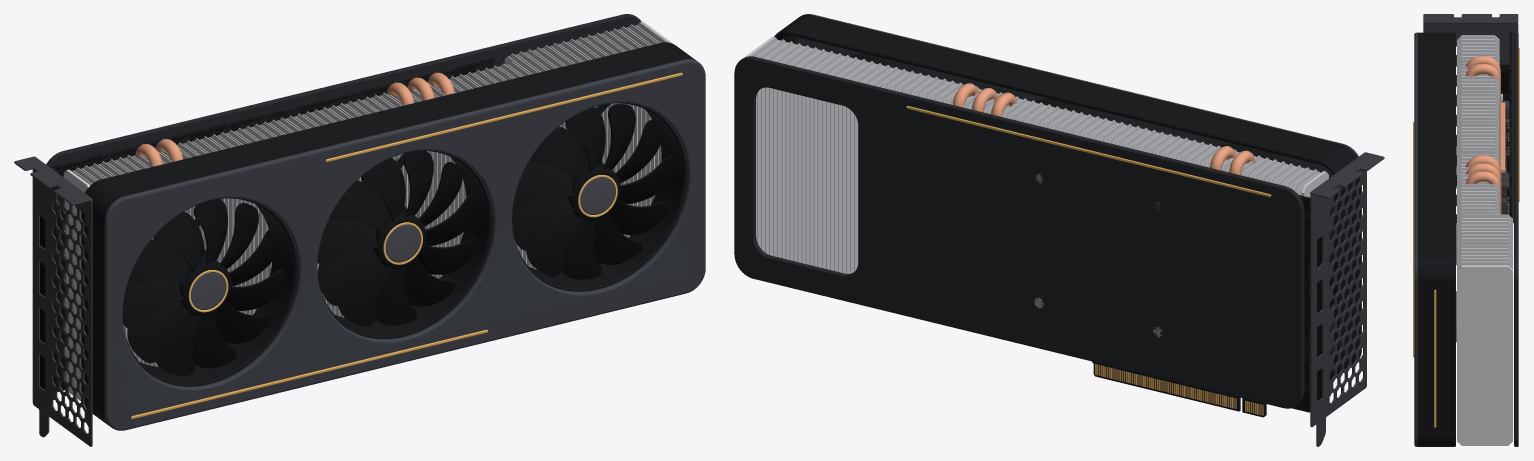
File: gpu.glb
3 renders of one model, left to right at view 1: azimuth 30°, elevation 25°; view 2: azimuth 150°, elevation 25°; view 3: azimuth 270°, elevation 25°, orthographic. The views are drawn at different scales.
Visible parts, largest first — view 1: shroud, fan_1, fan_2, fan_0, heatsink_fins, io_bracket, fan_frame, backplate, pcb, heatpipes, accent_top, accent_bottom; view 2: backplate, heatsink_fins, shroud, io_bracket, pcb, heatpipes, pcie_fingers, fan_frame, accent_back; view 3: heatsink_fins, shroud, io_bracket, heatpipes, backplate, pcb, vrm, accent_end, accent_back, accent_top, capacitors, accent_bottom (+1 smaller).
Part boxes in pixels (bbox=[...]): shroud: bbox=[81, 42, 705, 430]; fan_1: bbox=[317, 151, 478, 326]; fan_2: bbox=[512, 104, 674, 279]; fan_0: bbox=[122, 199, 285, 375]; heatsink_fins: bbox=[63, 21, 671, 400]; io_bracket: bbox=[14, 156, 92, 446]; fan_frame: bbox=[124, 103, 686, 386]; backplate: bbox=[46, 14, 641, 166]; pcb: bbox=[50, 58, 494, 391]; heatpipes: bbox=[135, 72, 454, 167]; accent_top: bbox=[325, 72, 682, 162]; accent_bottom: bbox=[131, 329, 488, 419]; backplate: bbox=[734, 56, 1304, 408]; heatsink_fins: bbox=[745, 36, 1328, 273]; shroud: bbox=[774, 14, 1361, 379]; io_bracket: bbox=[1310, 152, 1384, 446]; pcb: bbox=[1092, 195, 1310, 417]; heatpipes: bbox=[952, 83, 1255, 175]; pcie_fingers: bbox=[1095, 364, 1263, 415]; fan_frame: bbox=[850, 53, 1334, 306]; accent_back: bbox=[906, 106, 1271, 196]; heatsink_fins: bbox=[1457, 35, 1512, 445]; shroud: bbox=[1414, 32, 1455, 446]; io_bracket: bbox=[1423, 14, 1518, 222]; heatpipes: bbox=[1465, 55, 1505, 214]; backplate: bbox=[1514, 32, 1518, 446]; pcb: bbox=[1509, 32, 1512, 217]; vrm: bbox=[1501, 95, 1509, 214]; accent_end: bbox=[1434, 289, 1436, 427]; accent_back: bbox=[1518, 48, 1519, 201]; accent_top: bbox=[1413, 122, 1414, 264]; capacitors: bbox=[1501, 93, 1509, 214]; accent_bottom: bbox=[1413, 264, 1414, 357].
Bounding box in the file's own units: 0.3108 × 0.1306 × 0.0562.
Materials: 33 (1 with a texture image).
